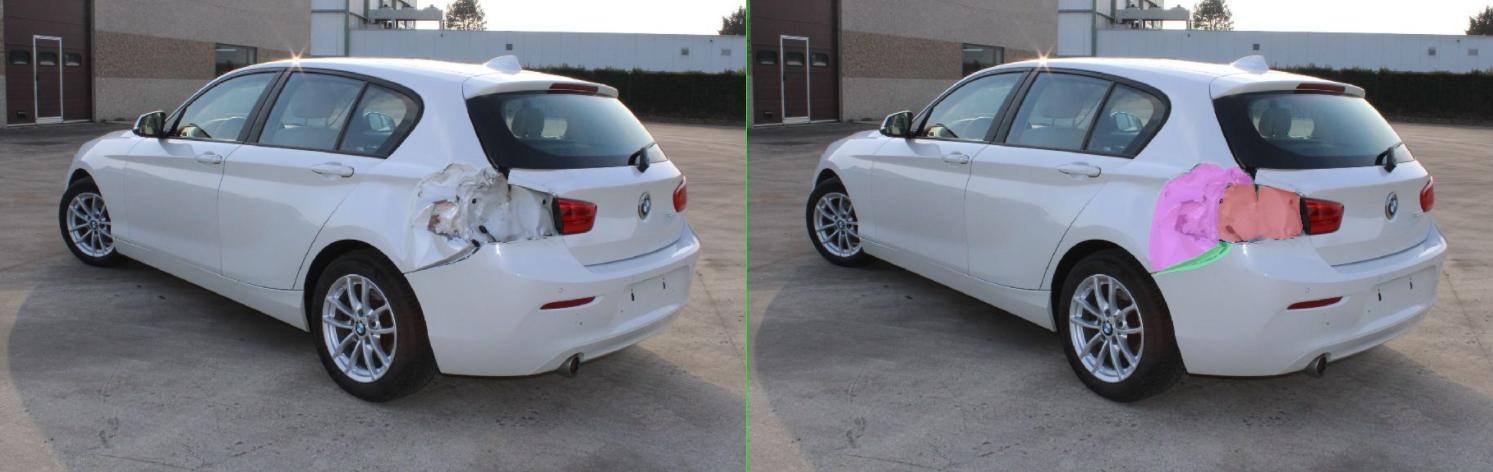Broken part: (815, 241, 971, 275)
Dent: (805, 163, 1011, 271)
Missing part: (939, 183, 1023, 241), (1023, 186, 1111, 238)
Paint chip: (853, 211, 923, 240), (867, 198, 897, 207)
